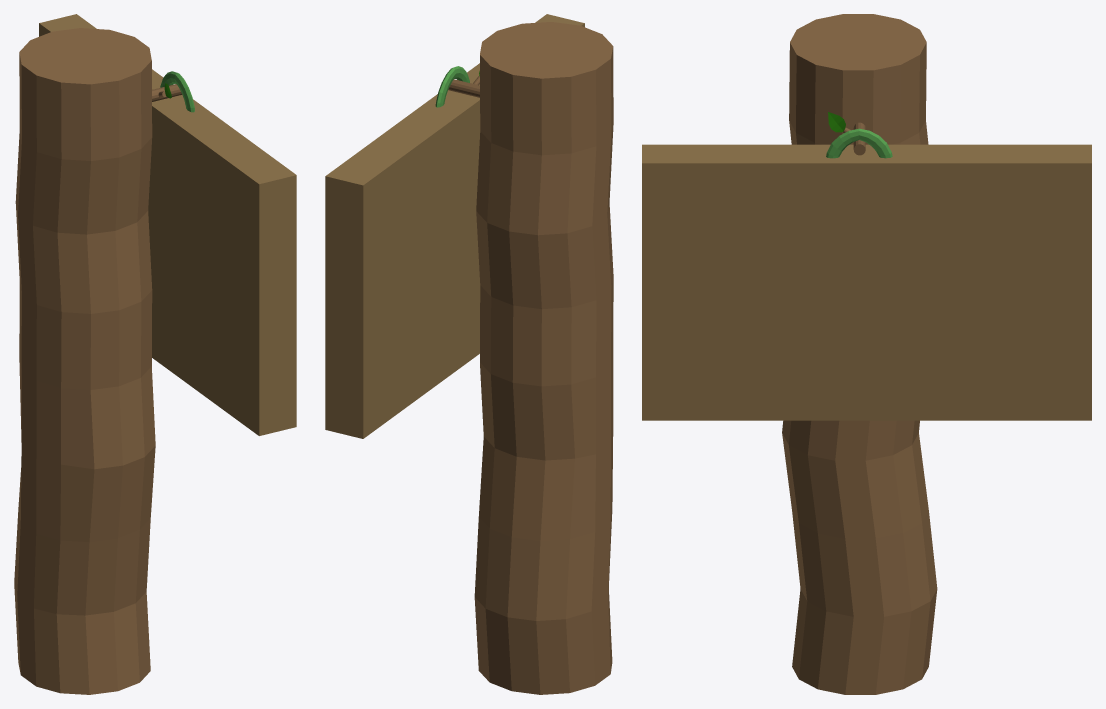
File: Placa.fbx
3 renders of one model, left to right at view 1: azimuth 30°, elevation 25°; view 2: azimuth 150°, elevation 25°; view 3: azimuth 270°, elevation 25°, orthographic. The views are drawn at different scales.
Visible parts, largest first — view 1: Cylinder, Cube, Torus; view 2: Cylinder, Cube, Torus; view 3: Cube, Cylinder, Torus.
Part boxes in pixels (x1,y1,x2,y2): Cylinder: [14, 28, 155, 694]; Cube: [39, 14, 296, 435]; Torus: [160, 71, 194, 112]; Cylinder: [474, 22, 613, 694]; Cube: [325, 14, 584, 438]; Torus: [435, 66, 469, 107]; Cube: [642, 144, 1091, 420]; Cylinder: [782, 14, 937, 694]; Torus: [826, 128, 892, 158].
Size of the model in its own units: 279 by 1007 by 657.
